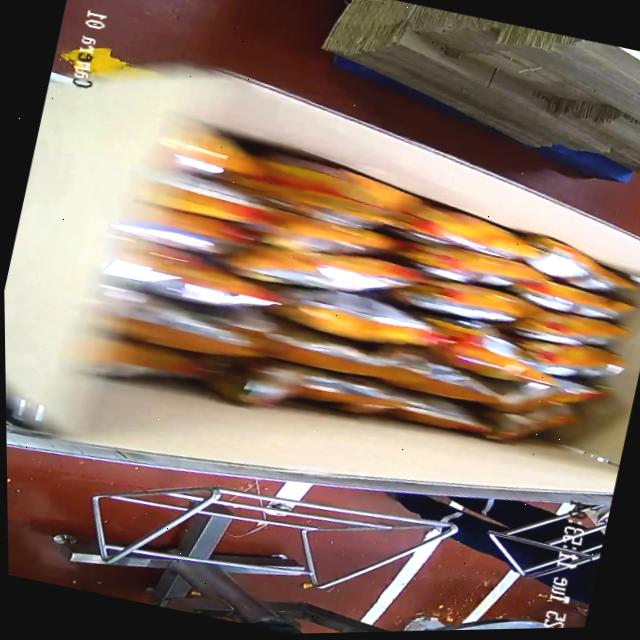FRENCH_CHEESE: (115, 103, 640, 504)
